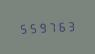five: (17, 21, 26, 35), (27, 21, 36, 34)
nine: (38, 20, 47, 34)
seven: (48, 19, 57, 33)
six: (58, 19, 67, 32)
three: (68, 18, 77, 32)
